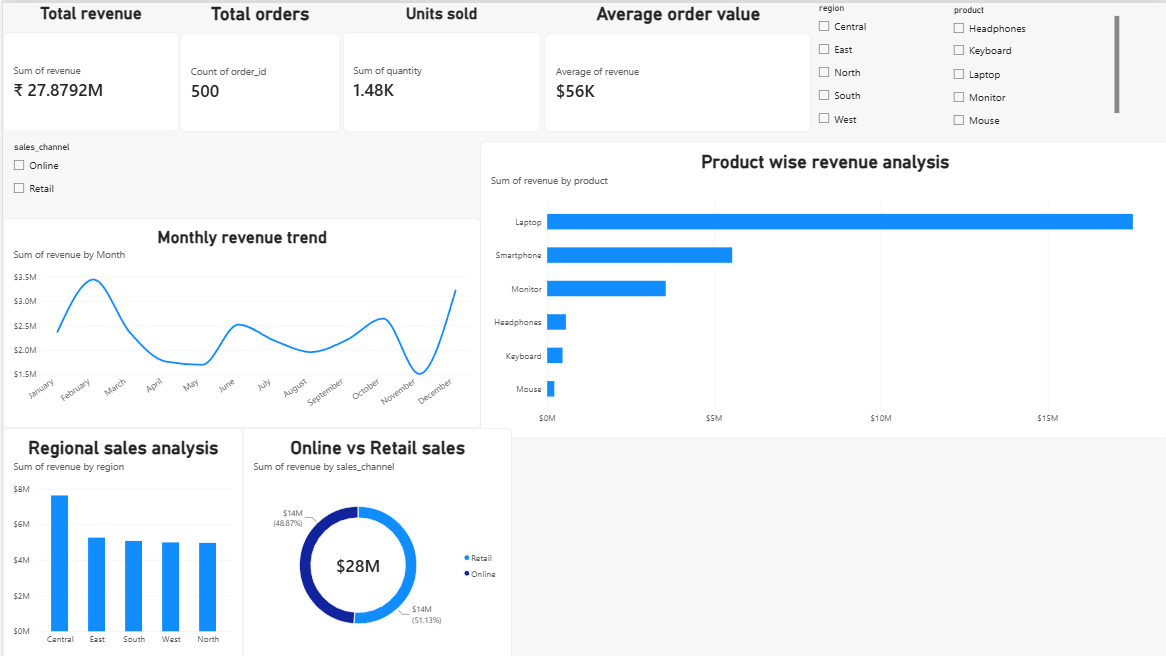

What the dashboard file says about the page in this screenshot:
{"tool":"powerbi","page":{"name":"Sales Overview","canvas":[1920,1080],"ordinal":0},"visuals":[{"type":"cardVisual","title":"Total revenue","fields":{"Data":["Sum(retail_sales.revenue)","Sum(retail_sales.revenue)"]},"box":[0,0,290,211.7],"z":0},{"type":"cardVisual","title":"Total orders","fields":{"Data":["Count(retail_sales.order_id)"]},"box":[292.5,0,262.5,212.5],"z":1000},{"type":"cardVisual","title":"Units sold","fields":{"Data":["Sum(retail_sales.quantity)"]},"box":[560,2.5,325,210],"z":2000},{"type":"cardVisual","title":"Average order value","fields":{"Data":["Avg(retail_sales.revenue)"]},"box":[892.5,0,437.5,212.5],"z":3000},{"type":"lineChart","title":"Monthly revenue trend","fields":{"Category":["retail_sales.order_date.Variation.Date Hierarchy.Month"],"Y":["Sum(retail_sales.revenue)"]},"box":[0,355,560,345],"z":4000},{"type":"clusteredBarChart","title":"Product wise revenue analysis","fields":{"Category":["retail_sales.product"],"Y":["Sum(retail_sales.revenue)"]},"box":[560,352.5,605,347.5],"z":5000},{"type":"slicer","fields":{"Values":["retail_sales.region"]},"box":[1335,0,280,226.7],"z":6000},{"type":"slicer","fields":{"Values":["retail_sales.product"]},"box":[1557.5,2.5,280,210],"z":7000},{"type":"slicer","fields":{"Values":["retail_sales.sales_channel"]},"box":[10,227.5,280,158.3],"z":8000},{"type":"columnChart","title":"Regional sales analysis","fields":{"Category":["retail_sales.region"],"Y":["Sum(retail_sales.revenue)"]},"box":[0,700,395,380],"z":9000},{"type":"donutChart","title":"Online vs Retail sales","fields":{"Category":["retail_sales.sales_channel"],"Y":["Sum(retail_sales.revenue)"]},"box":[395,700,442.5,380],"z":10000}]}

Visuals, with their boxes in screenshot pixels (x1, y1, x2, y2), scaled from the page's 1920x1080 canvas onto the 1166x656 screenshot:
"Total revenue" cardVisual: 0, 0, 176, 129
"Total orders" cardVisual: 178, 0, 337, 129
"Units sold" cardVisual: 340, 2, 537, 129
"Average order value" cardVisual: 542, 0, 808, 129
"Monthly revenue trend" lineChart: 0, 216, 340, 425
"Product wise revenue analysis" clusteredBarChart: 340, 214, 707, 425
slicer - retail_sales.region: 811, 0, 981, 138
slicer - retail_sales.product: 946, 2, 1116, 129
slicer - retail_sales.sales_channel: 6, 138, 176, 234
"Regional sales analysis" columnChart: 0, 425, 240, 655
"Online vs Retail sales" donutChart: 240, 425, 509, 655
